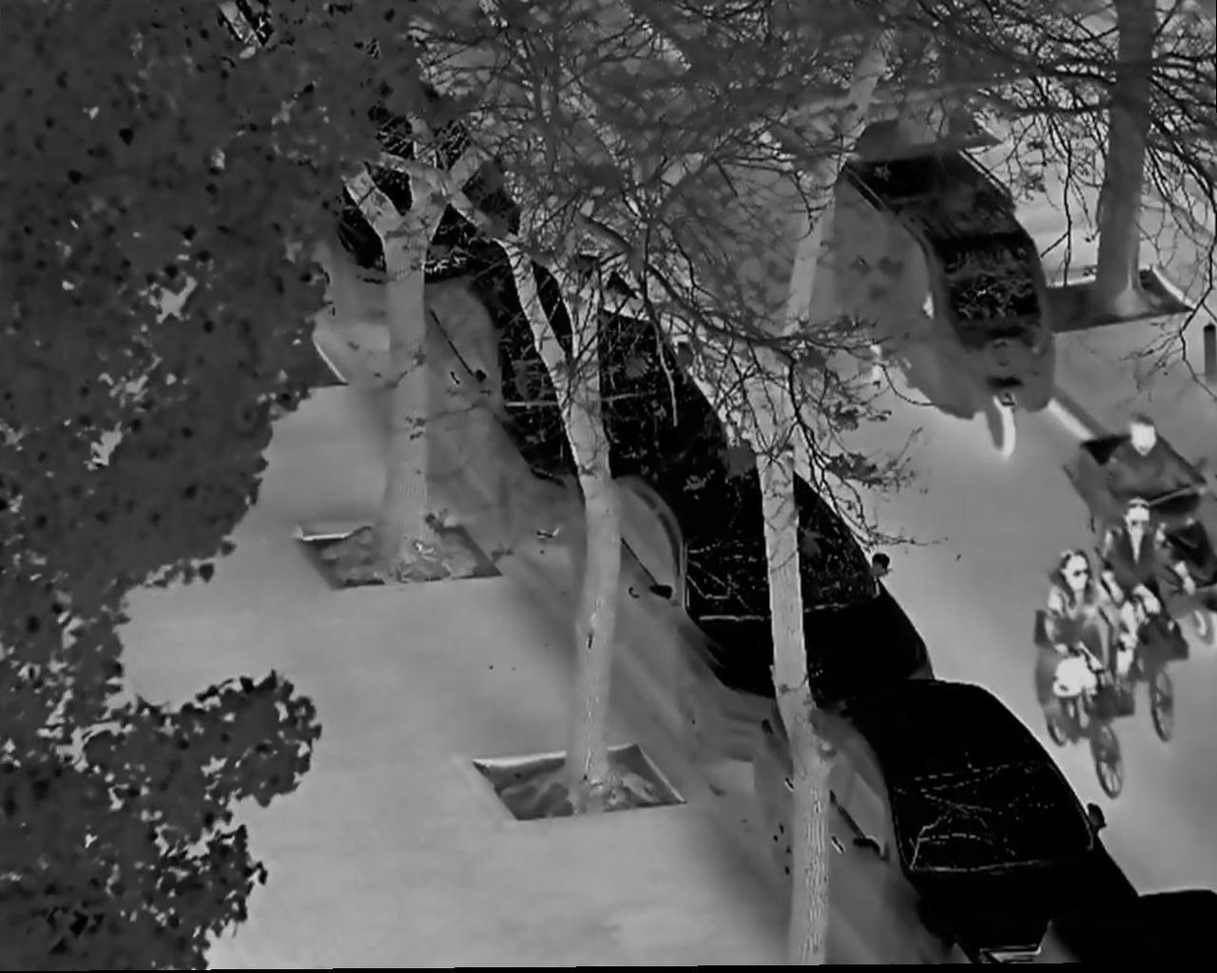person: (1042, 549, 1127, 722), (1101, 499, 1188, 666), (1099, 409, 1192, 544)
